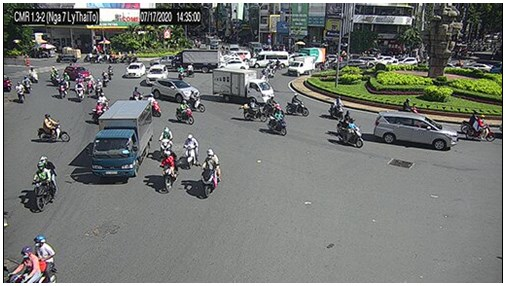xe_ba_gac: (54, 48, 82, 63)
xe_hoi: (371, 110, 459, 152), (151, 77, 200, 102), (144, 63, 166, 85), (124, 61, 146, 79), (332, 59, 370, 69), (219, 60, 251, 71), (465, 63, 493, 73), (395, 57, 417, 67)
xe_khach: (249, 50, 290, 69)
xe_may: (7, 236, 58, 284), (32, 155, 56, 212), (201, 148, 220, 199), (37, 114, 70, 143), (337, 114, 363, 149), (464, 116, 495, 143), (161, 148, 179, 193), (459, 110, 490, 134), (327, 95, 351, 120), (286, 91, 310, 116), (240, 98, 266, 121), (266, 106, 286, 135), (180, 89, 204, 113), (183, 133, 198, 169), (93, 92, 110, 123), (142, 93, 162, 118), (158, 126, 173, 159), (175, 100, 194, 124), (399, 96, 419, 118), (58, 76, 68, 100), (74, 77, 83, 103), (49, 63, 59, 86), (129, 86, 144, 101), (86, 70, 94, 96), (15, 80, 24, 103), (2, 70, 11, 93), (29, 63, 38, 85), (23, 74, 32, 96), (95, 76, 103, 99), (261, 65, 273, 78), (271, 57, 284, 69), (91, 52, 104, 64), (107, 50, 118, 64), (83, 50, 94, 64), (177, 63, 185, 81), (101, 70, 109, 87), (127, 50, 138, 62), (107, 64, 114, 81), (120, 52, 128, 63)
xe_tai: (89, 100, 153, 179), (211, 67, 273, 106), (212, 67, 275, 105), (171, 50, 220, 73), (287, 55, 315, 79), (296, 47, 326, 65)
